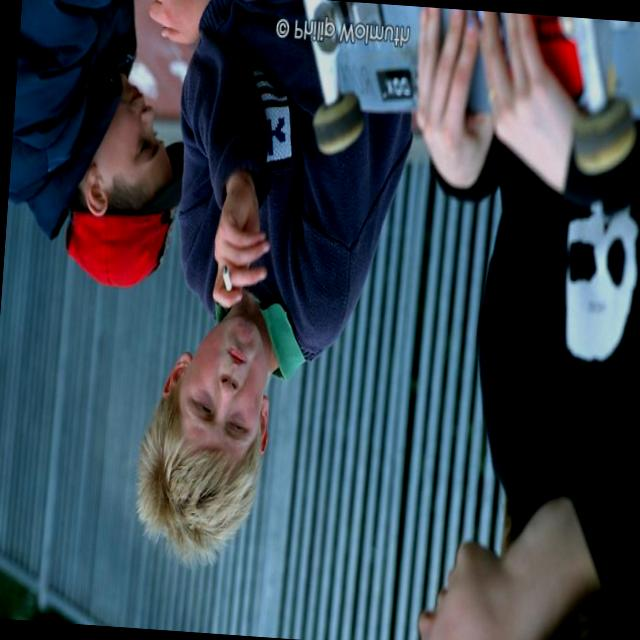smoke: (206, 250, 244, 309)
